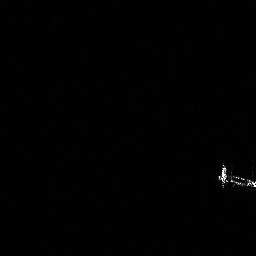ship: (214, 159, 256, 190)
